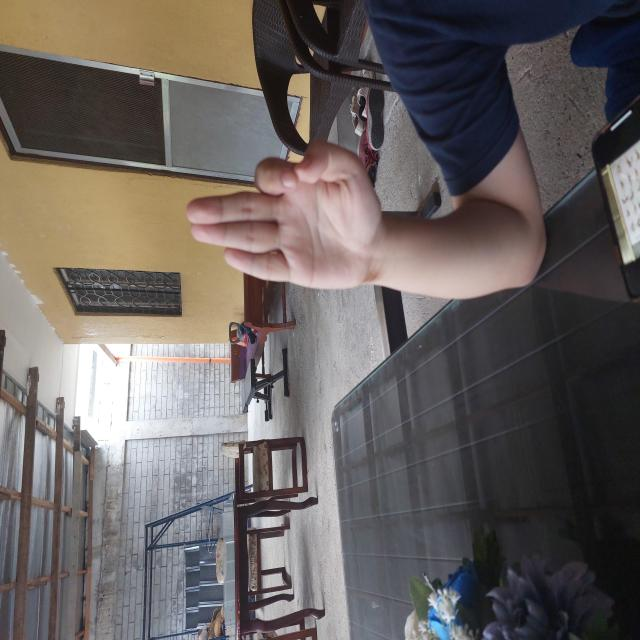F: (348, 184, 502, 387)
